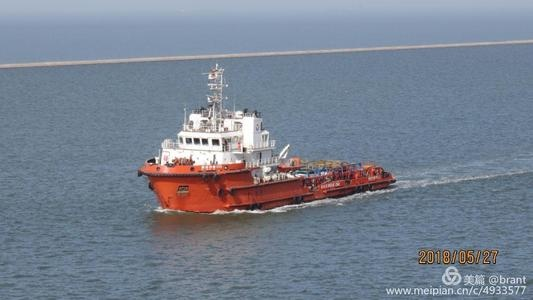otherboat: (137, 61, 395, 210)
